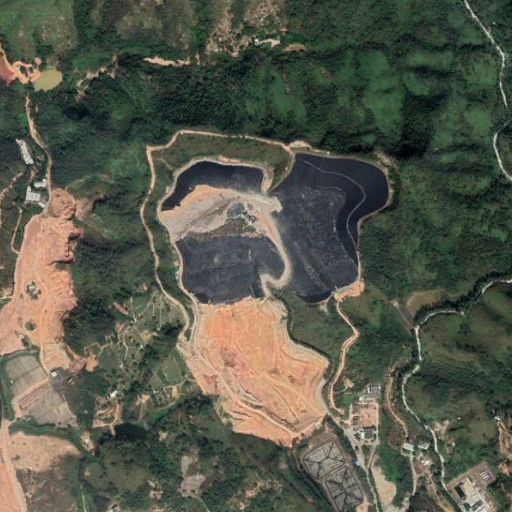lf: (159, 153, 389, 296)
